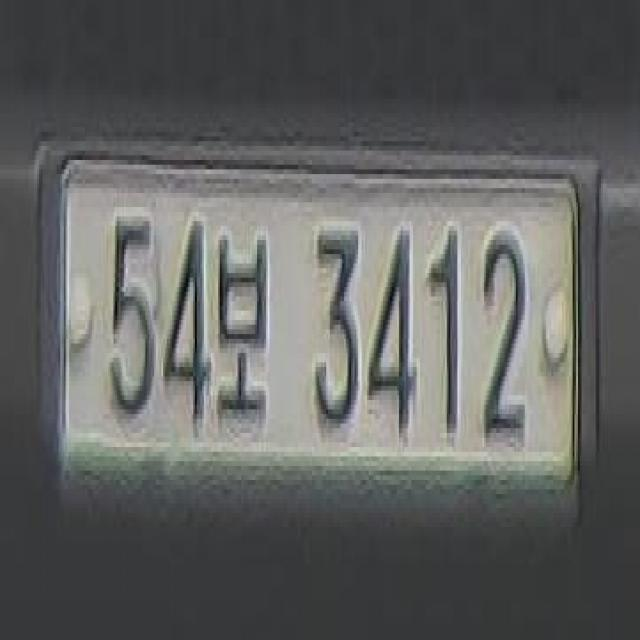1: (422, 218, 467, 441)
2: (473, 221, 532, 451)
3: (306, 211, 360, 424)
4: (362, 214, 418, 428), (160, 202, 210, 415)
5: (108, 198, 157, 416)
bo: (214, 208, 269, 426)
license_plate: (39, 126, 588, 508)
